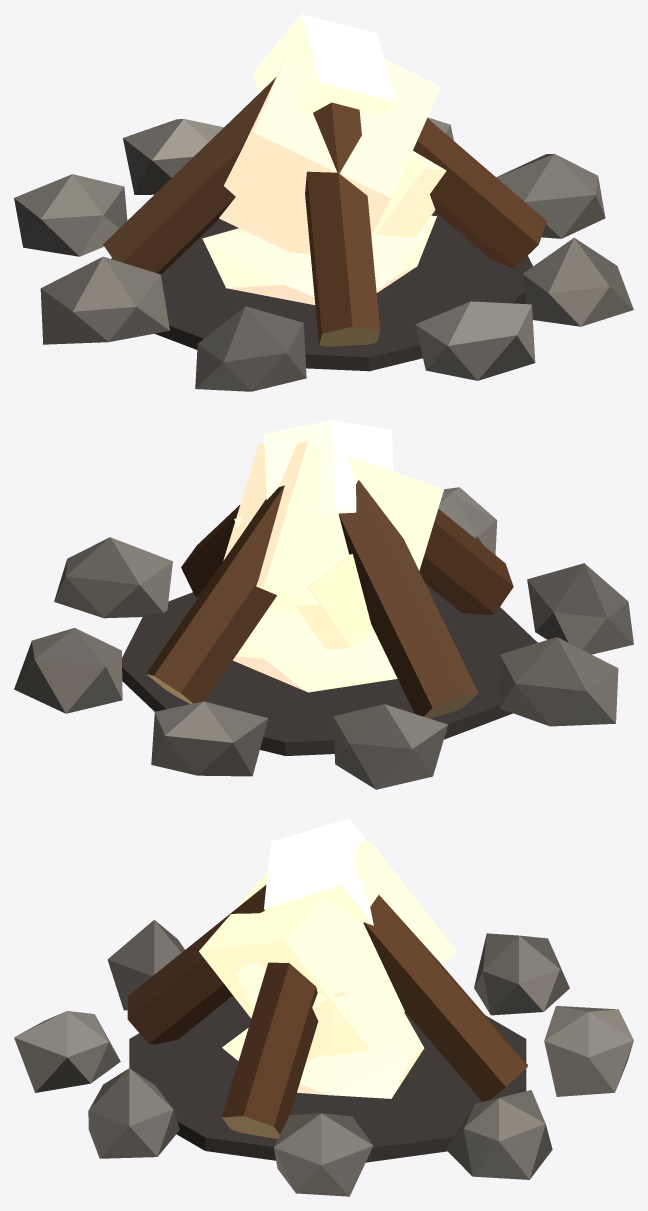
Rendered from Campfire.glb.
3 renders of one model, top to bottom at view 1: azimuth 30°, elevation 25°; view 2: azimuth 150°, elevation 25°; view 3: azimuth 270°, elevation 25°, orthographic. The views are drawn at different scales.
Visible parts, largest first — view 1: Body, Flame, Embers; view 2: Body, Flame, Embers; view 3: Body, Flame, Embers.
Part boxes in pixels (x1,y1,x2,y2): Body: [14, 77, 633, 391]; Flame: [219, 14, 446, 254]; Embers: [202, 215, 436, 304]; Body: [14, 480, 633, 789]; Flame: [223, 420, 444, 649]; Embers: [233, 606, 397, 692]; Body: [14, 885, 633, 1196]; Flame: [199, 818, 456, 1062]; Embers: [222, 1012, 424, 1098].
Size of the model in its own units: 4.18 by 1.89 by 4.16.
